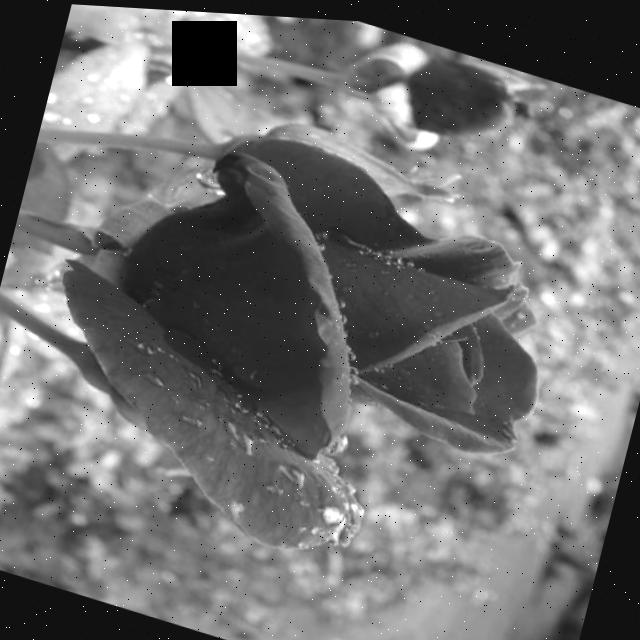rose: (14, 68, 585, 612)
